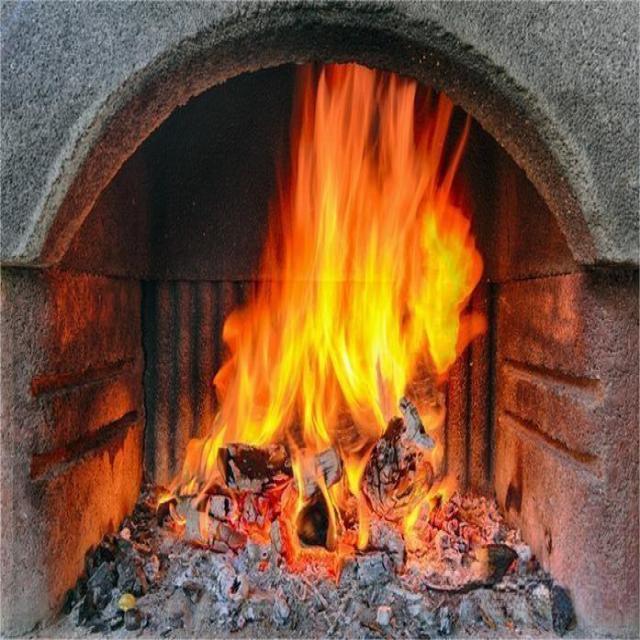Fire: (174, 61, 487, 546)
